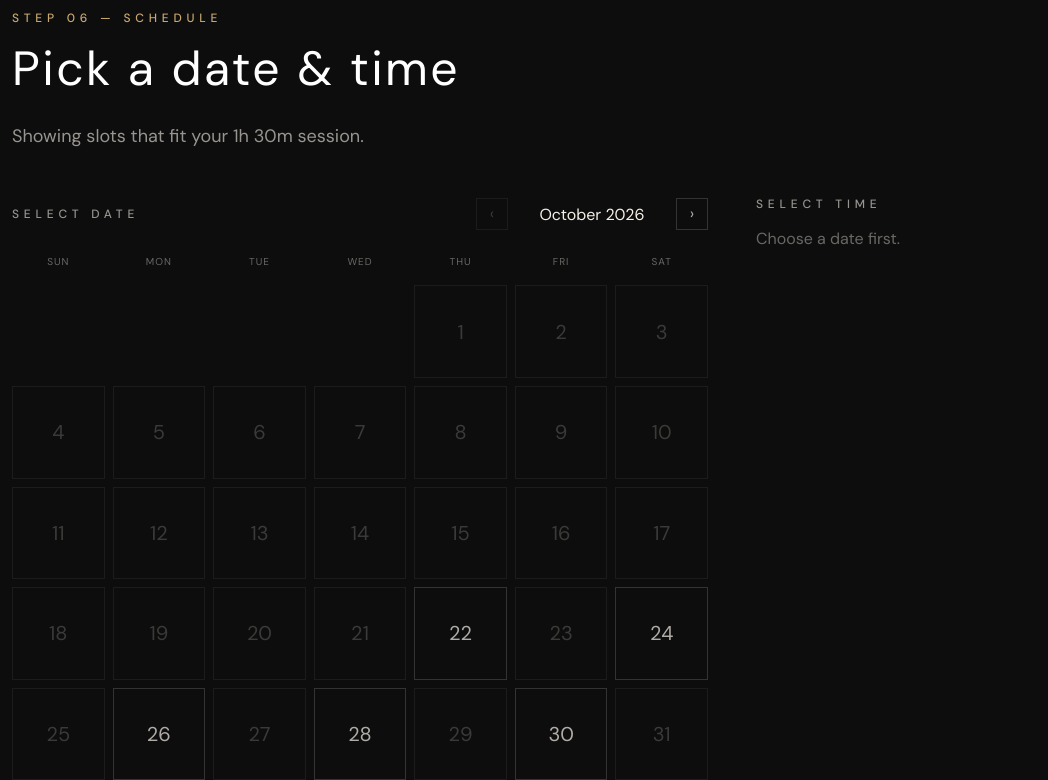
ScheduleStep with real fetch › renders dates returned by /api/cal/slots and disables empties
Check: the text "Choose a date first." is shown, box [756, 228, 900, 249]
Click the button "22" at [461, 633], box [414, 587, 507, 680]
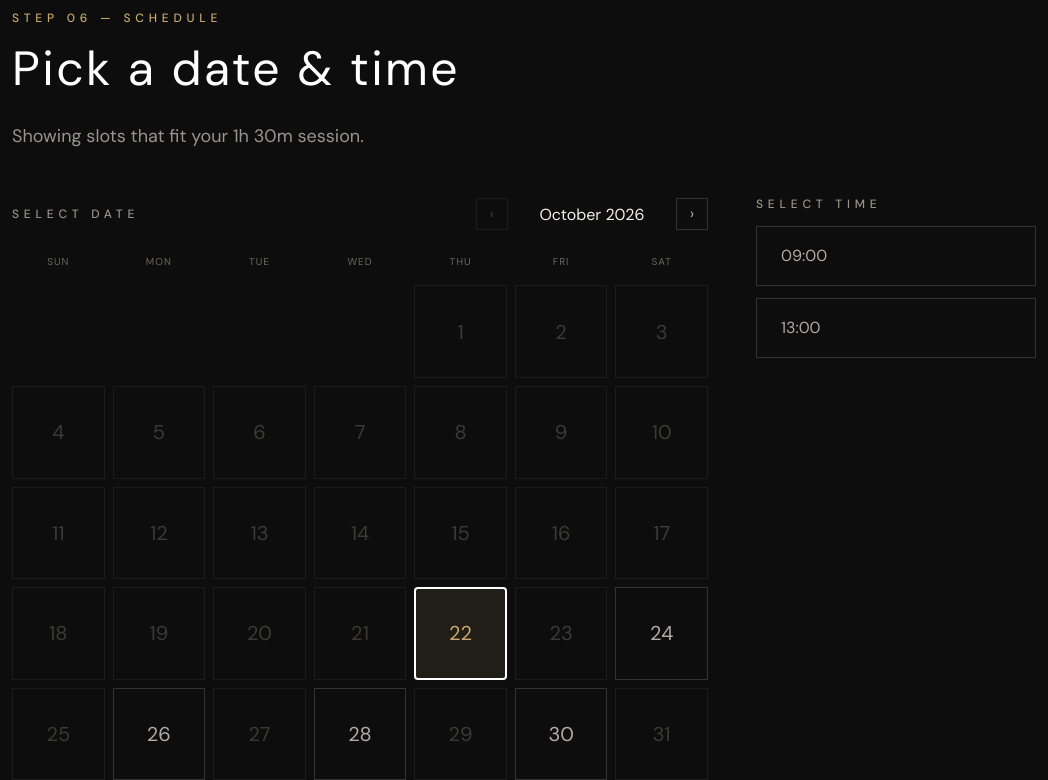
Check: the button "09:00" is shown, box [756, 226, 1036, 286]
Check: the button "13:00" is shown, box [756, 298, 1036, 358]
